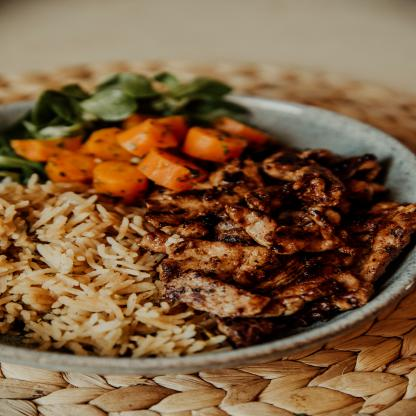Carne: (265, 146, 348, 226), (179, 271, 315, 317), (340, 202, 415, 285), (166, 232, 282, 277), (136, 187, 244, 230), (247, 222, 344, 254), (231, 172, 284, 218)
